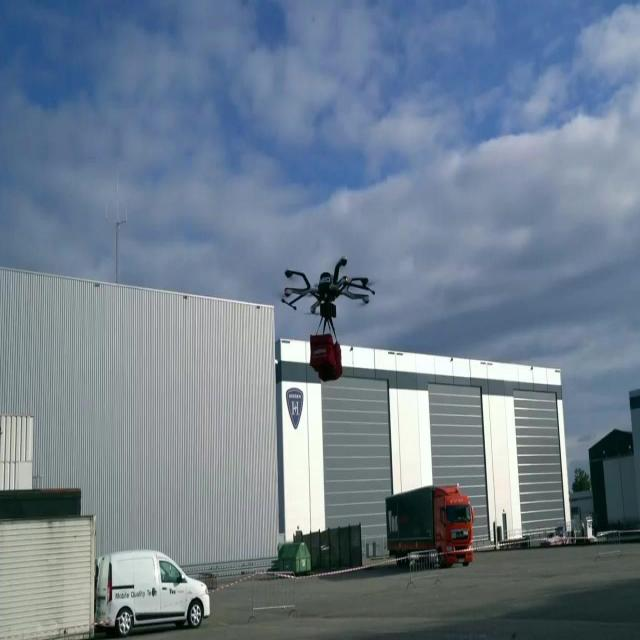UAV: (281, 256, 375, 346)
